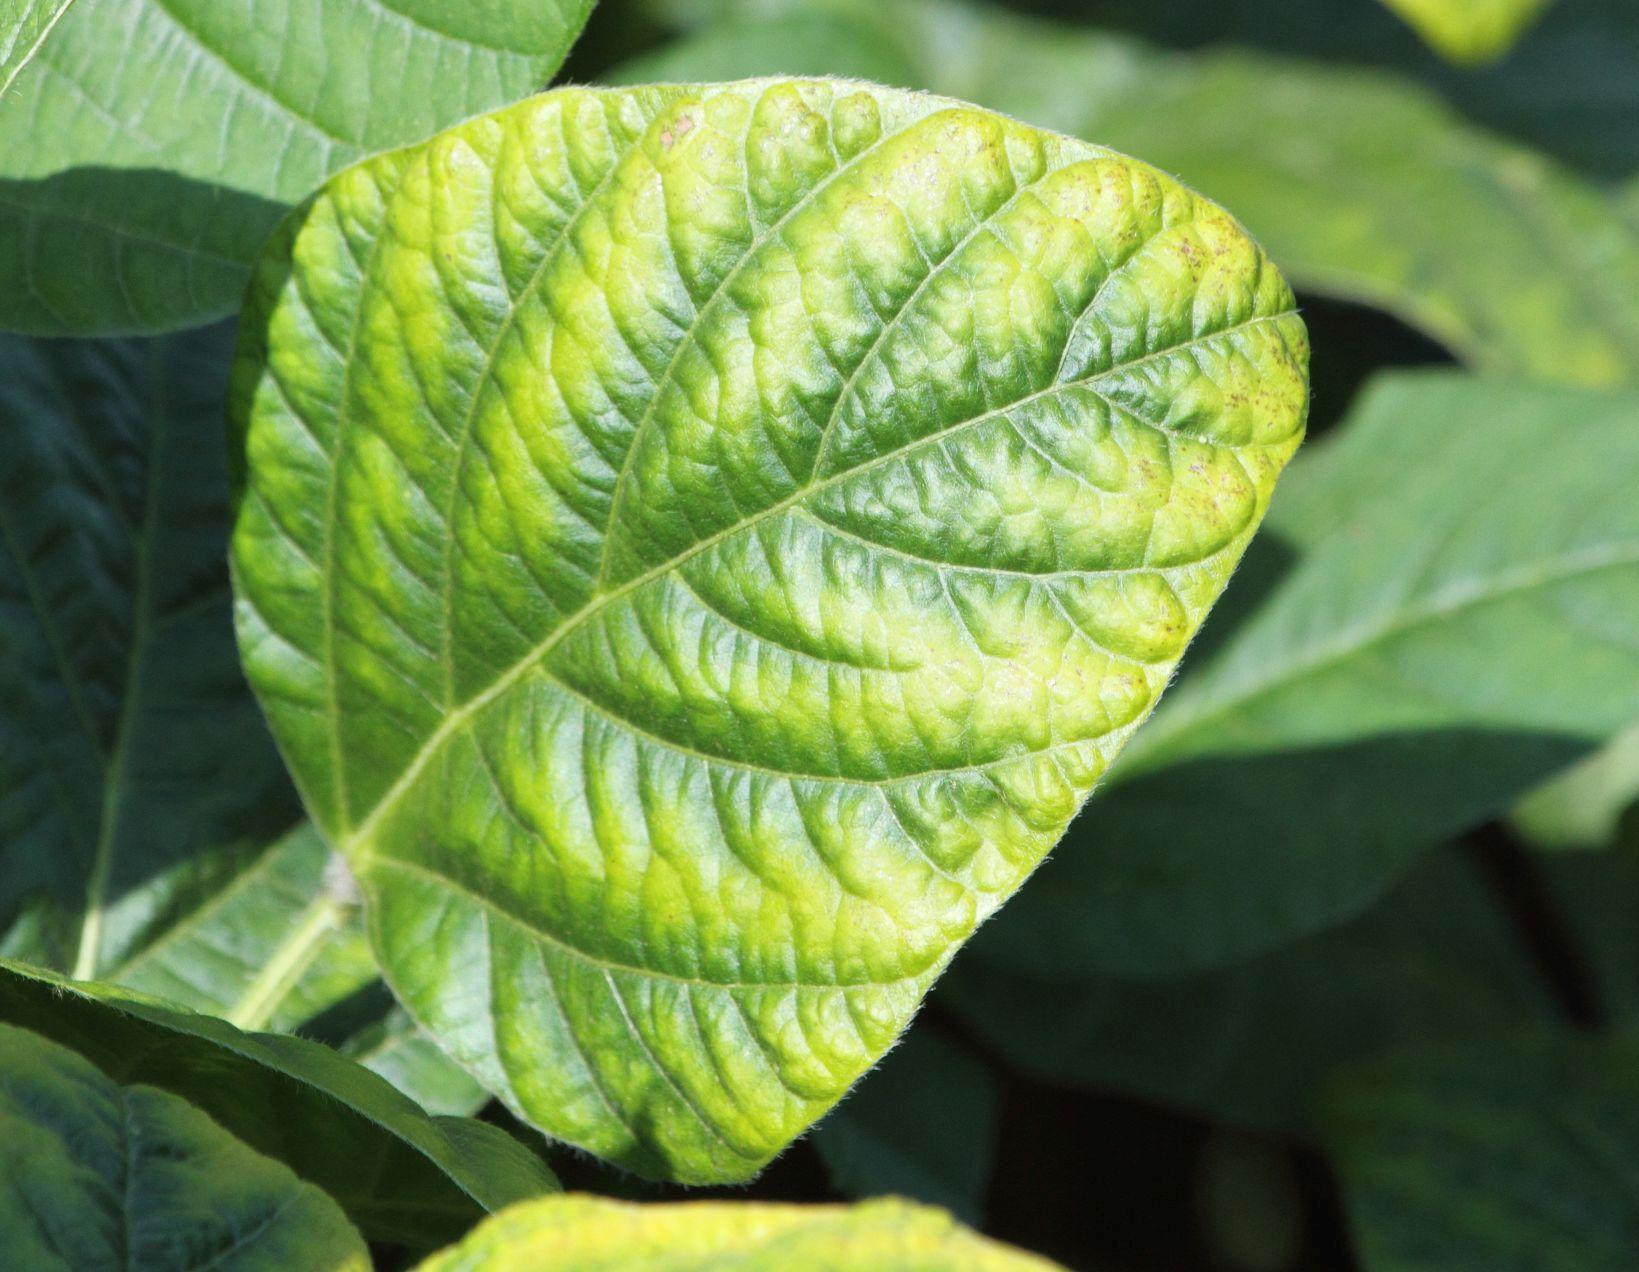Soyabean leaf: (222, 73, 1313, 1207)
